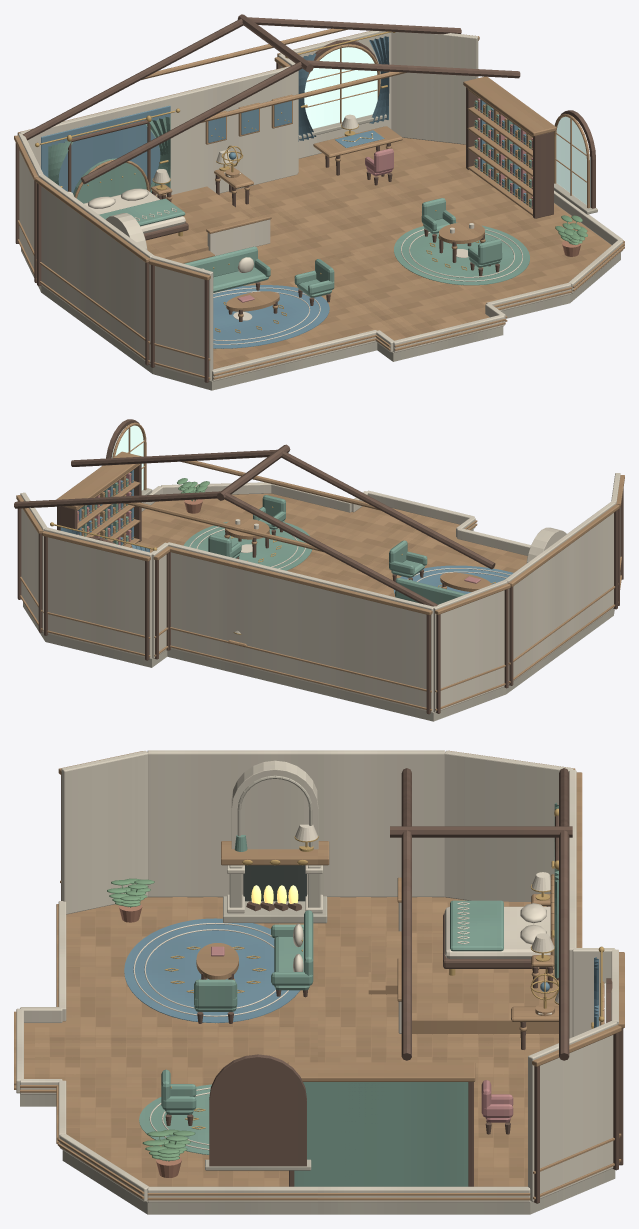
The model's file is neighbor1-interior.glb.
The picture shows the model from 3 angles, top to bottom: view 1: azimuth 30°, elevation 25°; view 2: azimuth 150°, elevation 25°; view 3: azimuth 270°, elevation 25°; orthographic projection. The views are drawn at different scales.
Visible parts, largest first — view 1: Forest hamlet; view 2: Forest hamlet; view 3: Forest hamlet.
Part boxes in pixels (left/top/right/bottom): Forest hamlet: left=14, top=14, right=624, bottom=390; Forest hamlet: left=14, top=419, right=624, bottom=721; Forest hamlet: left=14, top=750, right=624, bottom=1214.
Size of the model in its own units: 17.38 by 6.34 by 14.37.
18 materials, 18 textured.
